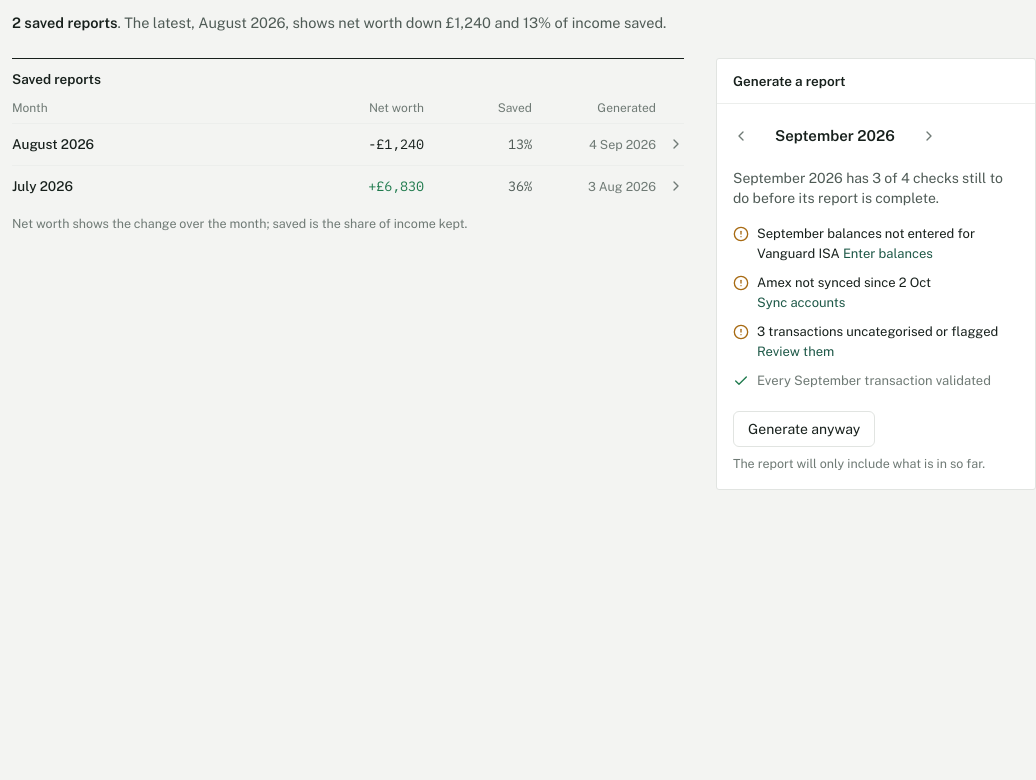
ReportsView › checks the last complete month and offers "Generate anyway" when it is not ready
expect the text "September 2026 has 3 of 4 checks still to do before its report is complete." is shown: met, box [733,168,1019,208]
Click the button "Generate anyway" at (804, 428), box [733,410,875,446]
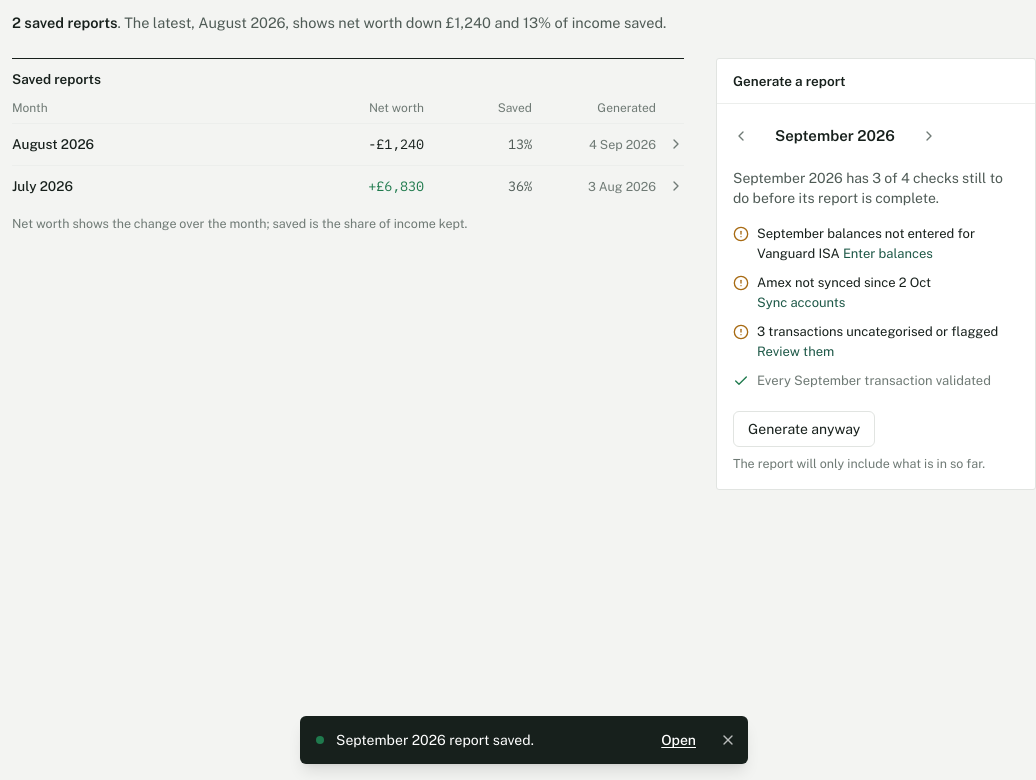
expect the text "September 2026 report saved." is shown: met, box [336,732,534,748]
